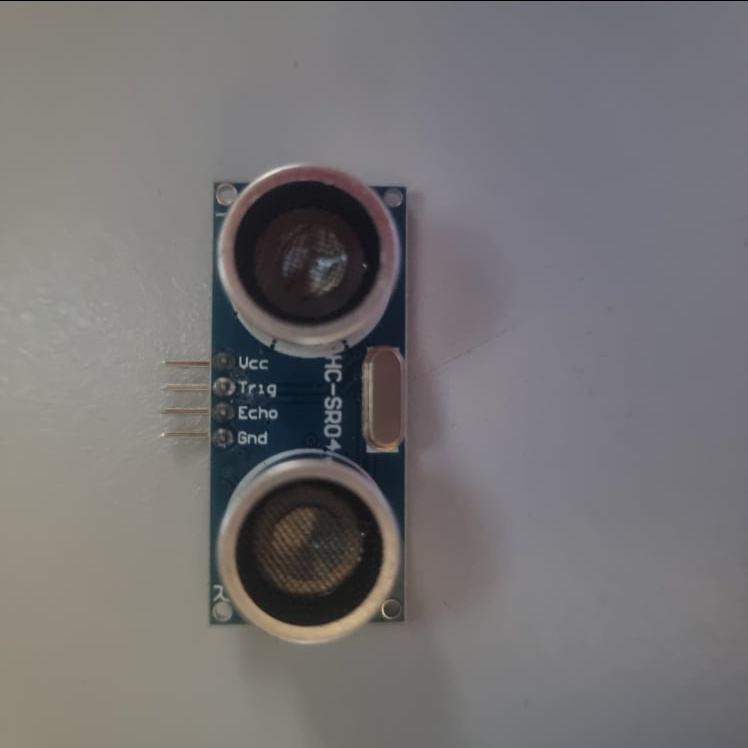SENSOR: (158, 157, 413, 645)
